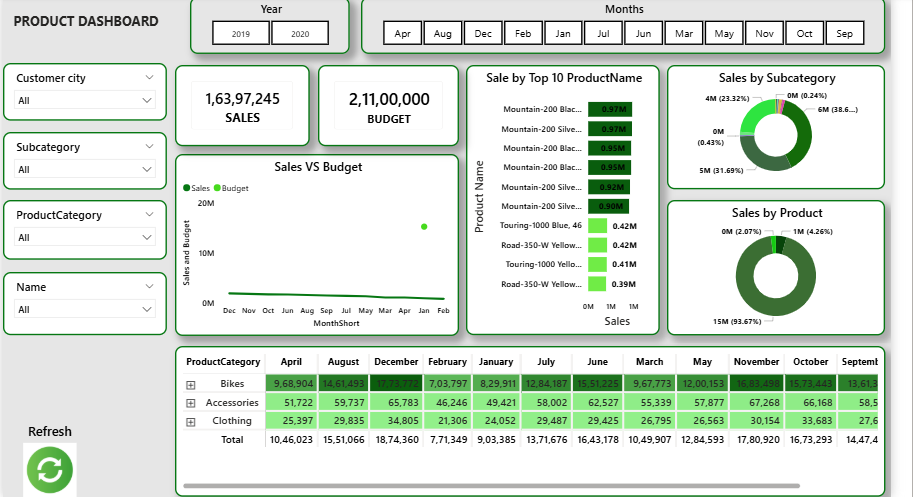

This screenshot's page, from the dashboard's own definition file:
{"tool":"powerbi","page":{"name":"Product ","canvas":[1280,720],"ordinal":1},"visuals":[{"type":"textbox","box":[0,0,269.3,95],"z":0},{"type":"slicer","title":"Year","fields":{"Values":["DimDate.Year"]},"box":[269.3,0,230.4,82.1],"z":1000},{"type":"slicer","title":"Months","fields":{"Values":["DimDate.MonthShort"]},"box":[515.5,0,754.6,82.1],"z":2000},{"type":"lineChart","title":"Sales VS Budget","fields":{"Category":["DimDate.MonthShort"],"Y":["FactInternetSales.Sales","FactInternetSales.Budgett"]},"box":[247,225.8,409.1,262.1],"z":3000},{"type":"barChart","title":"Sale by Top 10 ProductName","fields":{"Category":["DimProduct.ProductName"],"Y":["FactInternetSales.Sales"]},"box":[666.7,98.5,278.8,389.4],"z":4000},{"type":"donutChart","fields":{"Y":["FactInternetSales.Sales"],"Series":["DimProduct.Subcategory"]},"box":[956.1,98.5,313.6,178.8],"z":5000},{"type":"donutChart","title":"Sales by Product","fields":{"Y":["FactInternetSales.Sales"],"Series":["DimProduct.ProductCategory"]},"box":[956.1,292.4,313.6,195.5],"z":6000},{"type":"slicer","fields":{"Values":["DimProduct.ProductCategory"]},"box":[0,292.4,236.4,86.4],"z":8000},{"type":"slicer","fields":{"Values":["DimProduct.Subcategory"]},"box":[0,193.9,236.4,83.3],"z":9000},{"type":"slicer","fields":{"Values":["DimCustomer.Firstname"]},"box":[0,395.5,236.4,90.9],"z":10000},{"type":"pivotTable","fields":{"Rows":["DimProduct.ProductCategory","DimProduct.ProductName"],"Columns":["DimDate.Month"],"Values":["FactInternetSales.Sales"]},"box":[247,503,1022.7,216.7],"z":13000},{"type":"image","title":"Refresh","box":[0,612.1,134.8,107.6],"z":13001},{"type":"cardVisual","fields":{"Data":["FactInternetSales.Sales"]},"box":[247,98.5,193.9,116.7],"z":13002},{"type":"cardVisual","fields":{"Data":["FactInternetSales.Budgett"]},"box":[453,98.5,203,116.7],"z":13003},{"type":"slicer","fields":{"Values":["DimCustomer.Customer city"]},"box":[0,95.5,236.4,83.3],"z":13004}]}

Visuals, with their boxes on the page's 1280x720 design canvas (x1, y1, x2, y2). These are canvas units, not pixel positions in the 913x497 screenshot, which may show the page scaled, cropped or inside an application window:
textbox: box(0, 0, 269, 95)
"Year" slicer: box(269, 0, 500, 82)
"Months" slicer: box(516, 0, 1270, 82)
"Sales VS Budget" lineChart: box(247, 226, 656, 488)
"Sale by Top 10 ProductName" barChart: box(667, 98, 946, 488)
donutChart - FactInternetSales.Sales x DimProduct.Subcategory: box(956, 98, 1270, 277)
"Sales by Product" donutChart: box(956, 292, 1270, 488)
slicer - DimProduct.ProductCategory: box(0, 292, 236, 379)
slicer - DimProduct.Subcategory: box(0, 194, 236, 277)
slicer - DimCustomer.Firstname: box(0, 396, 236, 486)
pivotTable - DimProduct.ProductCategory x DimProduct.ProductName: box(247, 503, 1270, 720)
"Refresh" image: box(0, 612, 135, 720)
cardVisual - FactInternetSales.Sales: box(247, 98, 441, 215)
cardVisual - FactInternetSales.Budgett: box(453, 98, 656, 215)
slicer - DimCustomer.Customer city: box(0, 96, 236, 179)
